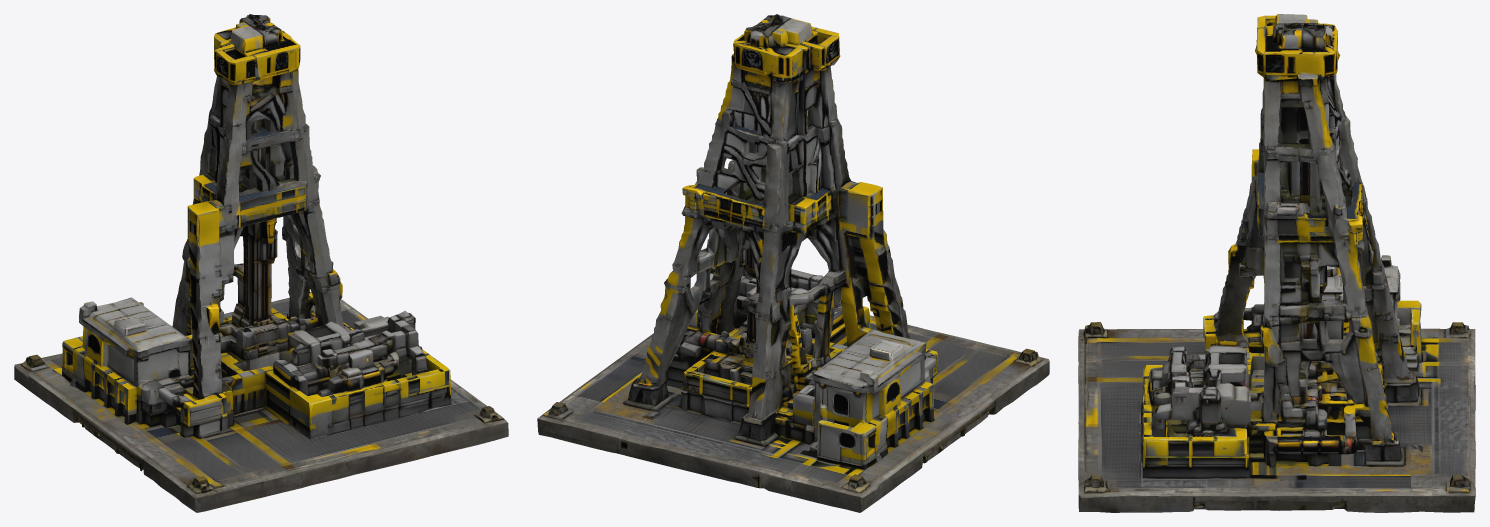
Rendered from building_generic_drilling_pilot_v2_normals_lod0_trellis2_dev.glb.
The picture shows the model from 3 angles, left to right: view 1: azimuth 30°, elevation 25°; view 2: azimuth 150°, elevation 25°; view 3: azimuth 270°, elevation 25°; orthographic projection. The views are drawn at different scales.
Parts seen in each view (by area): view 1: geometry_0; view 2: geometry_0; view 3: geometry_0.
Part boxes in pixels (x1,y1,x2,y2): geometry_0: [14, 14, 508, 512]; geometry_0: [537, 14, 1049, 512]; geometry_0: [1078, 14, 1475, 512].
Size of the model in its own units: 0.8737 by 1 by 0.8747.
1 material, 1 textured.
